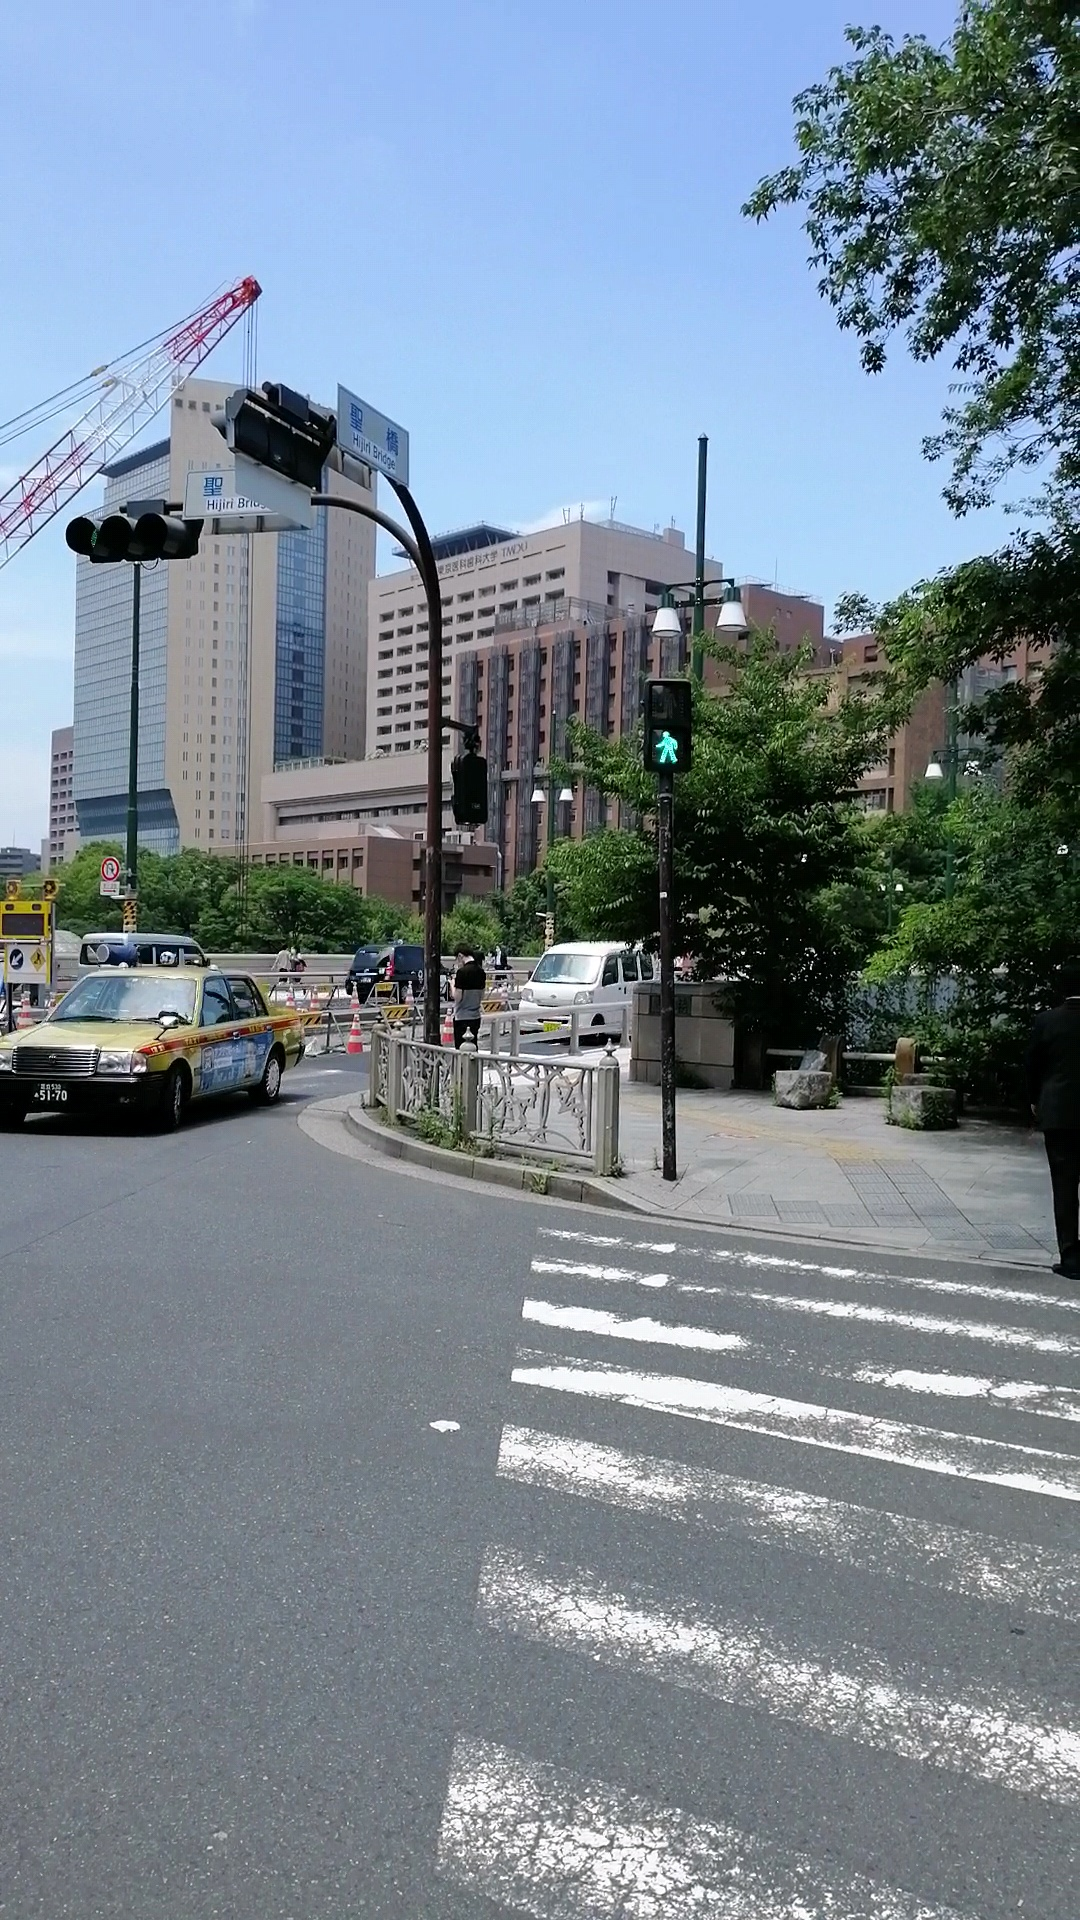green: (644, 676, 692, 774)
